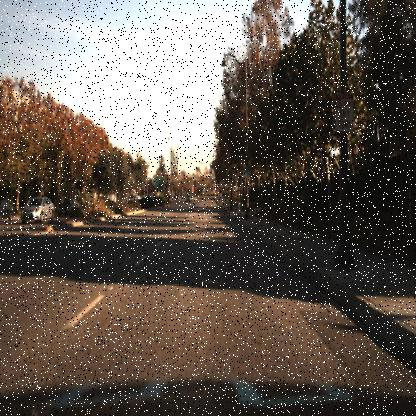car: (21, 194, 55, 224), (57, 192, 84, 218), (124, 187, 139, 208), (184, 190, 195, 209)
